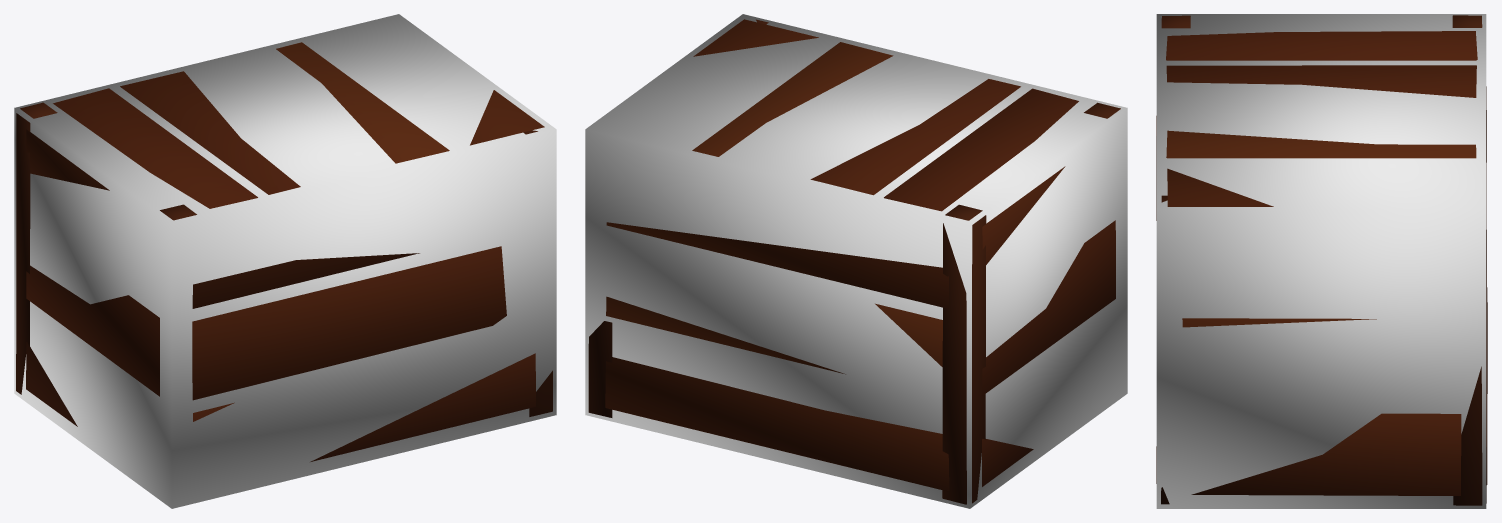
File: caja_madera_b.glb
3 renders of one model, left to right at view 1: azimuth 30°, elevation 25°; view 2: azimuth 150°, elevation 25°; view 3: azimuth 270°, elevation 25°, orthographic. The views are drawn at different scales.
Parts seen in each view (by area): view 1: caja_madera_b-colcaja, caja; view 2: caja_madera_b-colcaja, caja; view 3: caja_madera_b-colcaja, caja.
Boxes of the visible parts, x1,y1,x2,y2 form: caja_madera_b-colcaja: [14, 14, 556, 508]; caja: [16, 42, 552, 461]; caja_madera_b-colcaja: [585, 14, 1127, 508]; caja: [588, 19, 1120, 504]; caja_madera_b-colcaja: [1156, 14, 1486, 508]; caja: [1156, 15, 1487, 505].
Size of the model in its own units: 0.6211 by 0.4425 by 0.4423.
